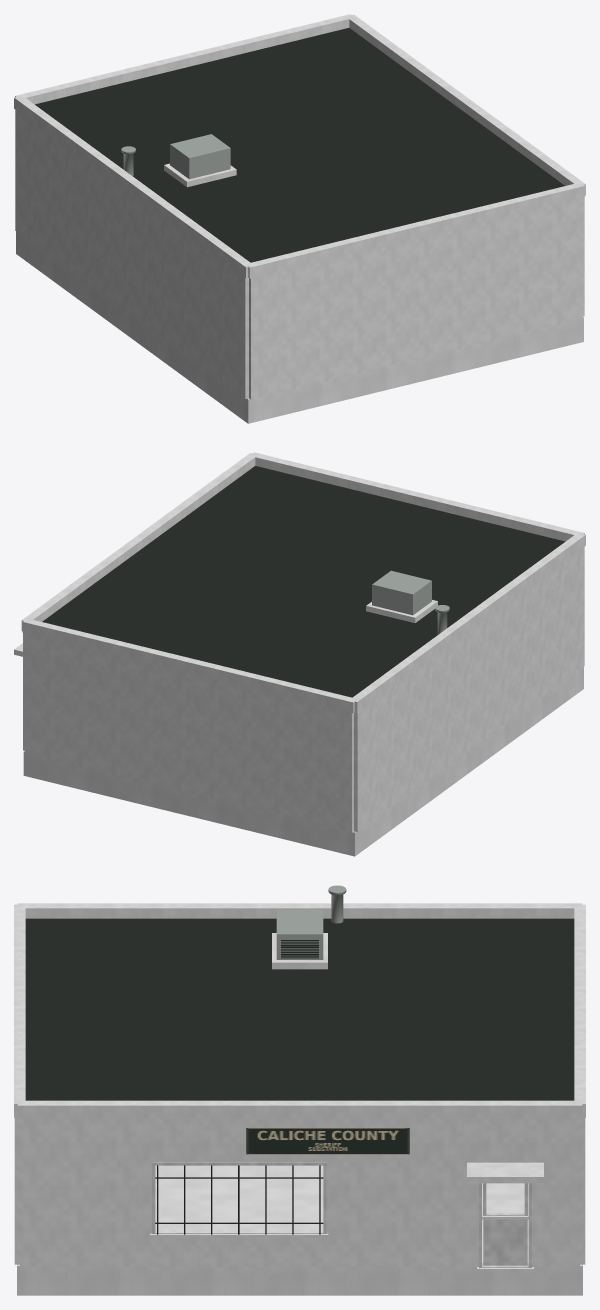
File: SM_Town_Sheriff_Shell.glb
3 views of the same model, one above another, from view 1: azimuth 30°, elevation 25°; view 2: azimuth 150°, elevation 25°; view 3: azimuth 270°, elevation 25° (orthographic). The views are drawn at different scales.
Visible parts, largest first — view 1: SM_Town_Sheriff_Shell; view 2: SM_Town_Sheriff_Shell; view 3: SM_Town_Sheriff_Shell.
Part boxes in pixels (<box>): SM_Town_Sheriff_Shell: <box>14,14,585,423</box>; SM_Town_Sheriff_Shell: <box>14,452,585,856</box>; SM_Town_Sheriff_Shell: <box>14,885,585,1295</box>.
Bounding box in the file's own units: 10.96 × 5.07 × 12.25.
7 materials, 5 textured.
